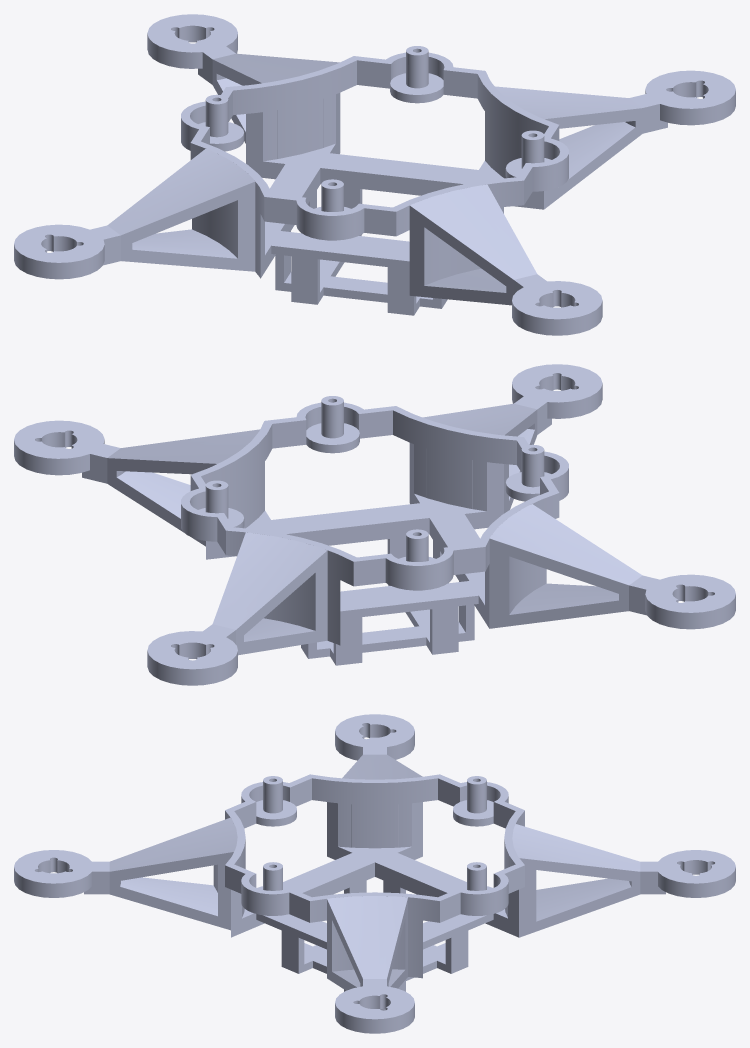
Rendered from CustomFrame.glb.
3 views of the same model, one above another, from view 1: azimuth 30°, elevation 25°; view 2: azimuth 150°, elevation 25°; view 3: azimuth 270°, elevation 25° (orthographic). The views are drawn at different scales.
Parts seen in each view (by area): view 1: CustomFrame; view 2: CustomFrame; view 3: CustomFrame.
Part boxes in pixels (left/top/right/bottom): CustomFrame: left=14, top=14, right=735, bottom=335; CustomFrame: left=14, top=364, right=735, bottom=685; CustomFrame: left=14, top=714, right=735, bottom=1033.
Size of the model in its own units: 0.0904 by 0.019 by 0.0904.
